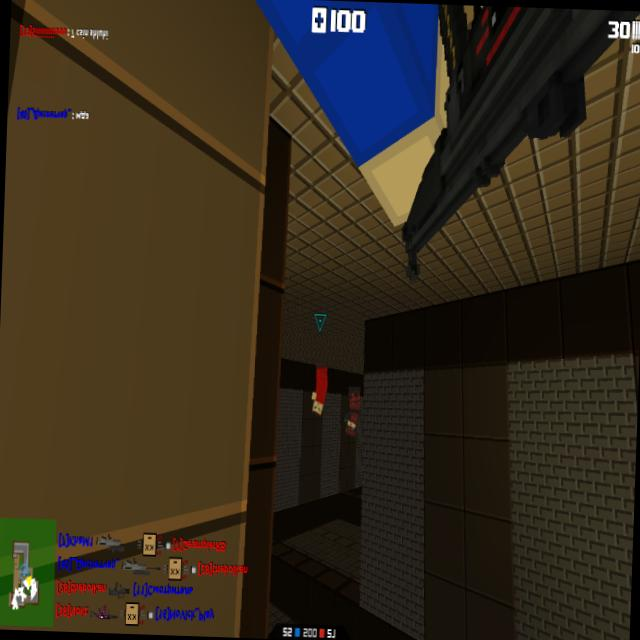enemy: (310, 364, 329, 418), (344, 383, 362, 438)
